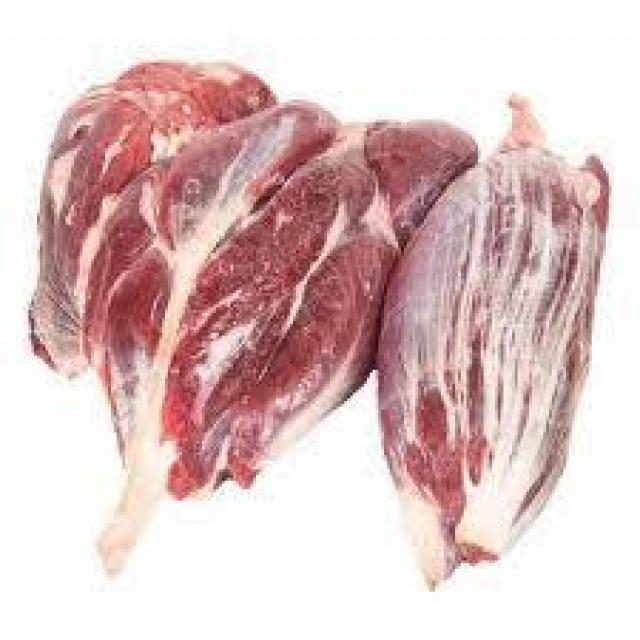beef: (376, 132, 615, 566)
